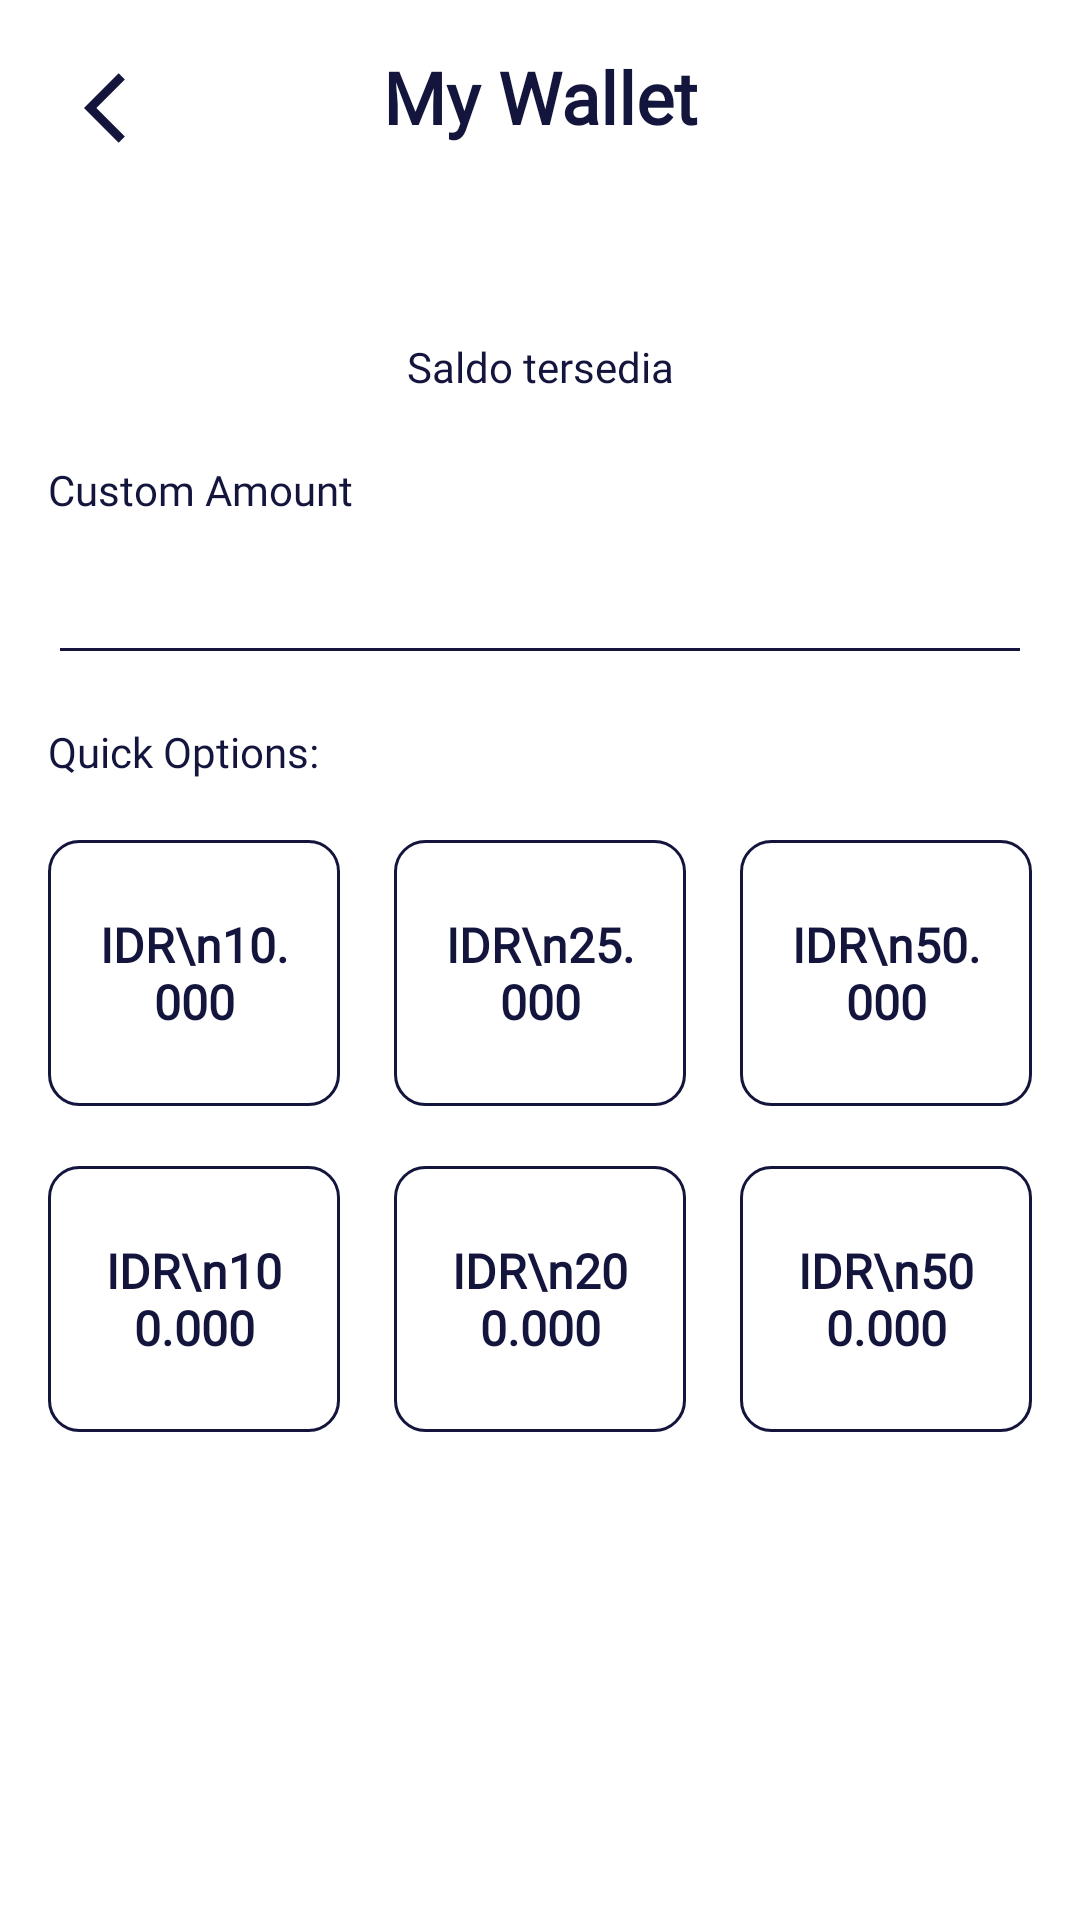

Point at icon controls on the screen. Image size 1080px x 1920px, points as [x,y].
arrow back: [104,108]
